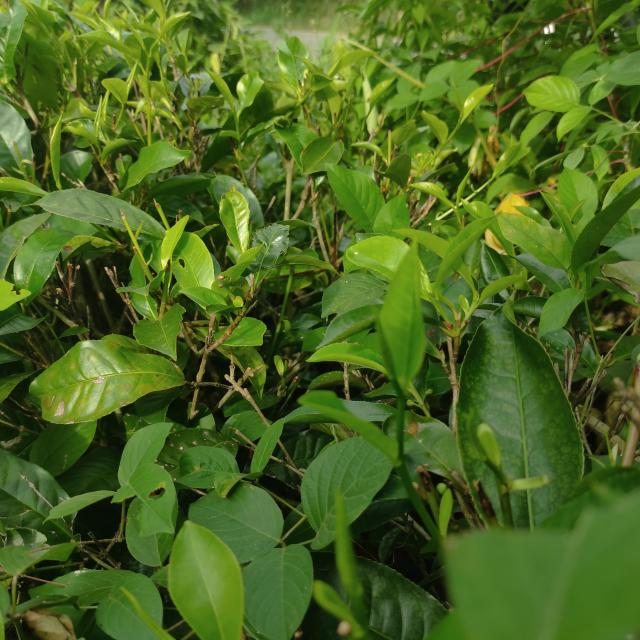unopened_leaf: (326, 478, 370, 606), (114, 578, 188, 640), (362, 299, 407, 391), (89, 93, 102, 143)
